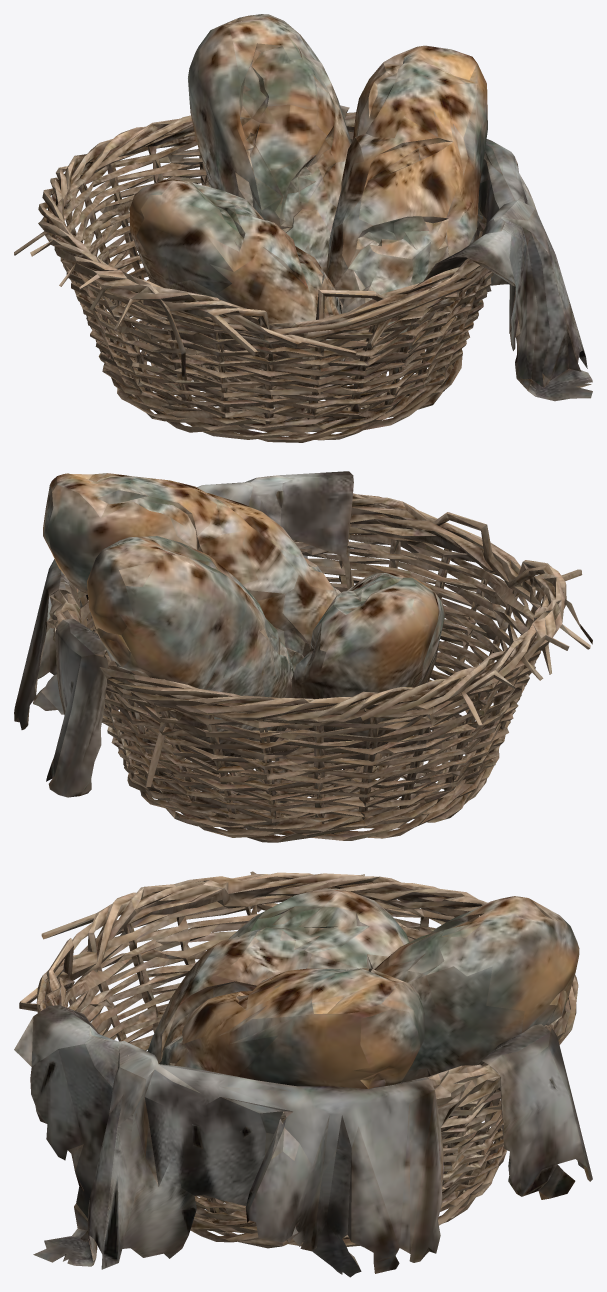
Rendered from hf_rottenbasket.glb.
The picture shows the model from 3 angles, top to bottom: view 1: azimuth 30°, elevation 25°; view 2: azimuth 150°, elevation 25°; view 3: azimuth 270°, elevation 25°; orthographic projection. The views are drawn at different scales.
Bounding box in the file's own units: 1.9 × 1.02 × 1.78.
Materials: 1 (1 with a texture image).
